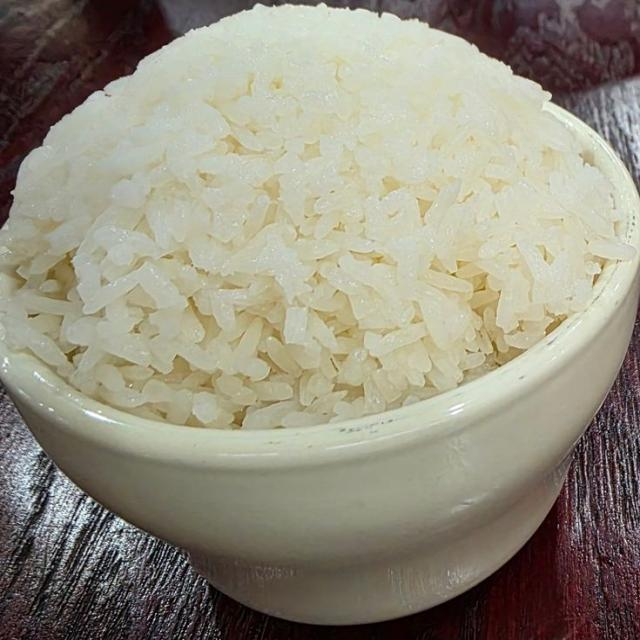rice: (0, 6, 633, 428)
